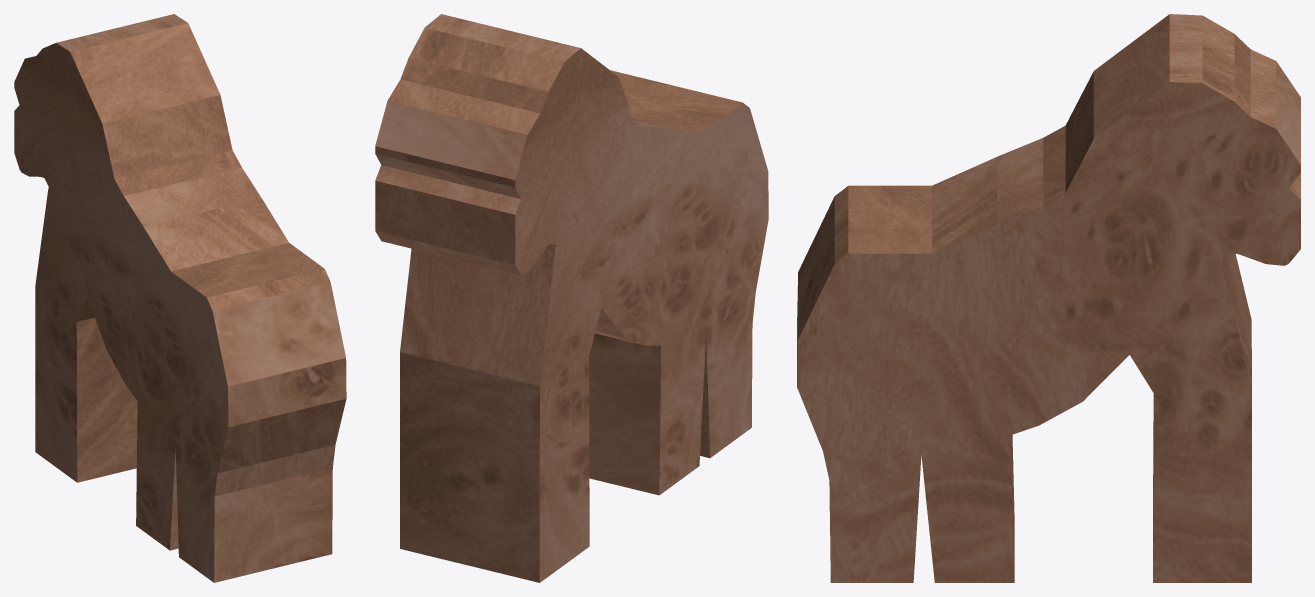
The model's file is gorilla.FBX.
3 views of the same model, side by side, from view 1: azimuth 30°, elevation 25°; view 2: azimuth 150°, elevation 25°; view 3: azimuth 270°, elevation 25° (orthographic). The views are drawn at different scales.
Visible parts, largest first — view 1: Obj_000001; view 2: Obj_000001; view 3: Obj_000001.
Part boxes in pixels (x1,y1,x2,y2): Obj_000001: [14, 14, 346, 582]; Obj_000001: [375, 14, 768, 582]; Obj_000001: [797, 14, 1300, 582].
Bounding box in the file's own units: 0.394 × 1.36 × 1.24.
